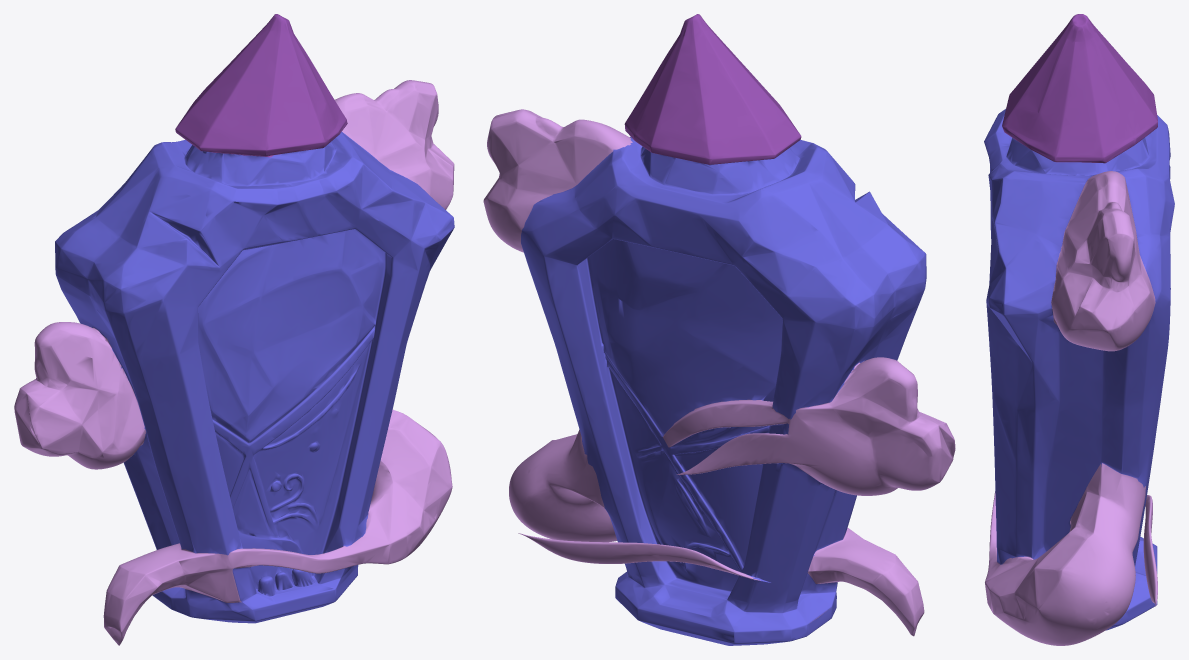
Rendered from NEW POTION 2.fbx.
3 views of the same model, side by side, from view 1: azimuth 30°, elevation 25°; view 2: azimuth 150°, elevation 25°; view 3: azimuth 270°, elevation 25° (orthographic). The views are drawn at different scales.
Parts seen in each view (by area): view 1: POTION 2; view 2: POTION 2; view 3: POTION 2.
Part boxes in pixels (bbox=[...]): POTION 2: bbox=[14, 14, 454, 645]; POTION 2: bbox=[483, 14, 955, 645]; POTION 2: bbox=[984, 14, 1174, 645].
Bounding box in the file's own units: 41.58 × 51.88 × 15.05.
